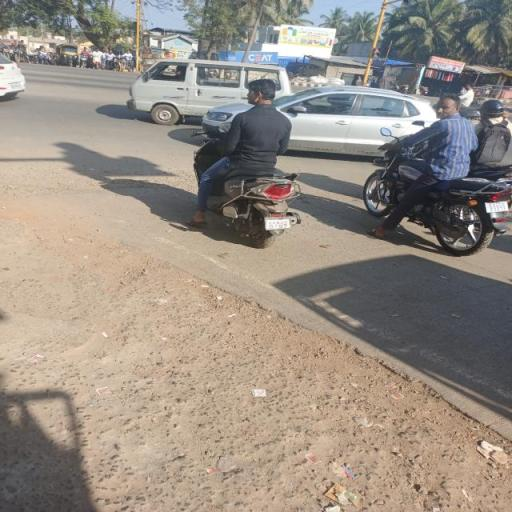bike: (193, 74, 308, 250)
withouthelmet: (246, 80, 277, 104)
